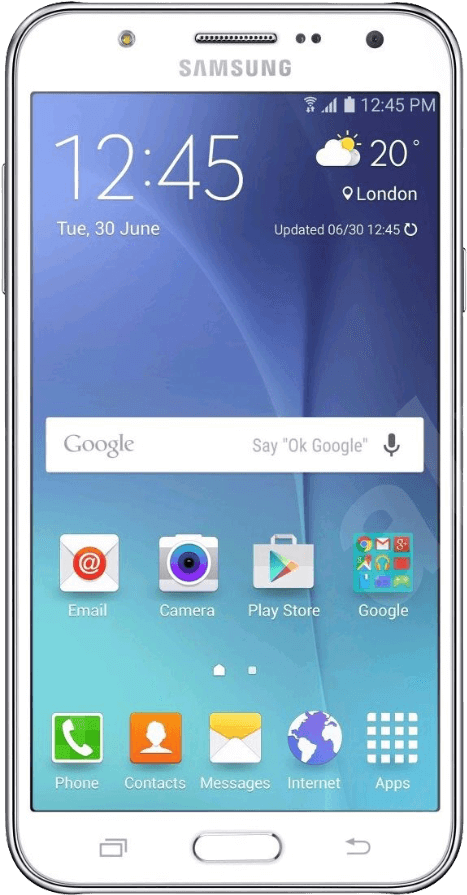phone: (1, 9, 467, 885)
